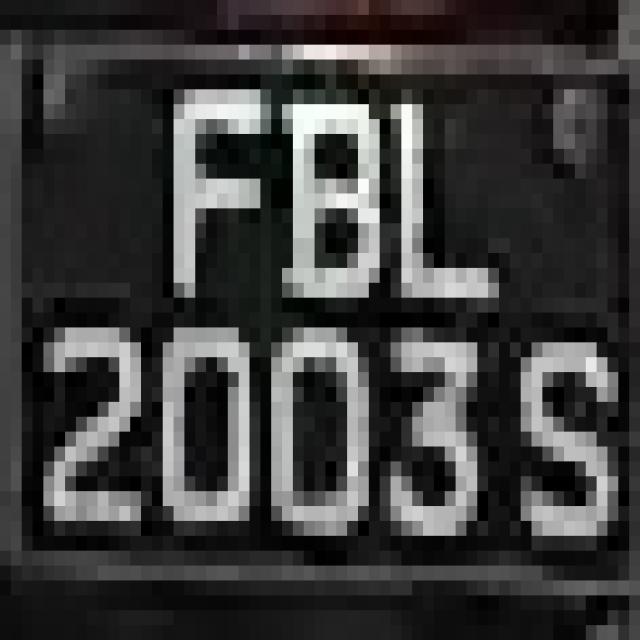0: (228, 298, 358, 566), (141, 298, 271, 536)
2: (11, 283, 152, 580)
3: (369, 298, 488, 566)
B: (250, 60, 380, 312)
F: (141, 75, 260, 312)
L: (358, 60, 499, 312)
S: (499, 312, 629, 580)
